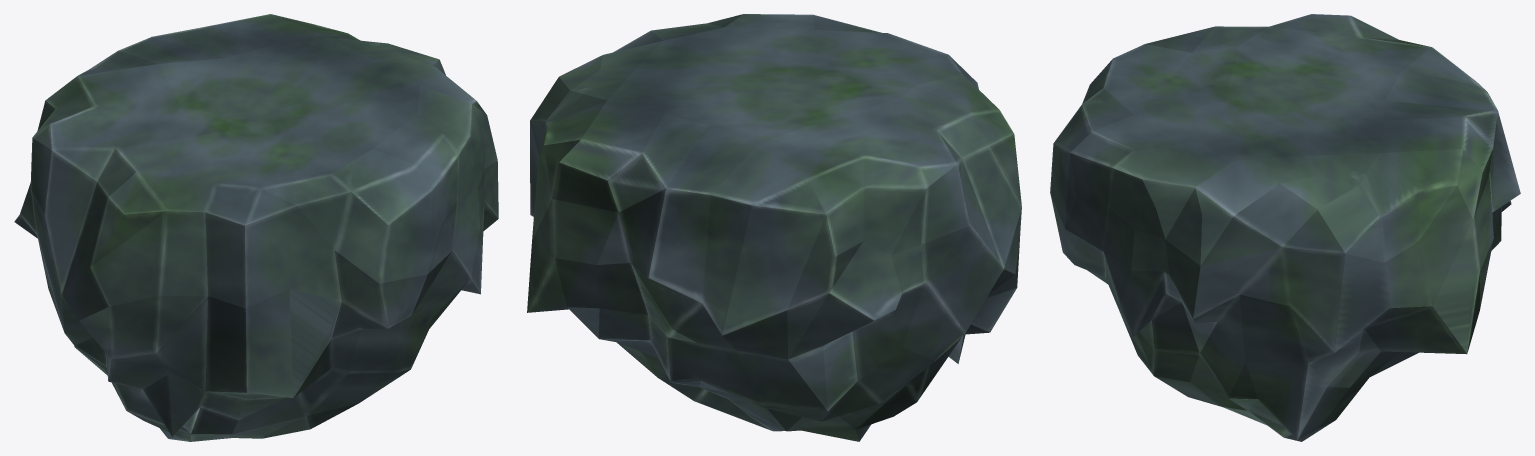
File: Ilha.fbx
3 views of the same model, side by side, from view 1: azimuth 30°, elevation 25°; view 2: azimuth 150°, elevation 25°; view 3: azimuth 270°, elevation 25° (orthographic). The views are drawn at different scales.
Parts seen in each view (by area): view 1: Ilha; view 2: Ilha; view 3: Ilha.
Boxes of the visible parts, x1,y1,x2,y2 form: Ilha: (14,14,498,441); Ilha: (527,14,1021,441); Ilha: (1050,14,1520,441).
Size of the model in its own units: 19.54 by 14.82 by 18.76.
